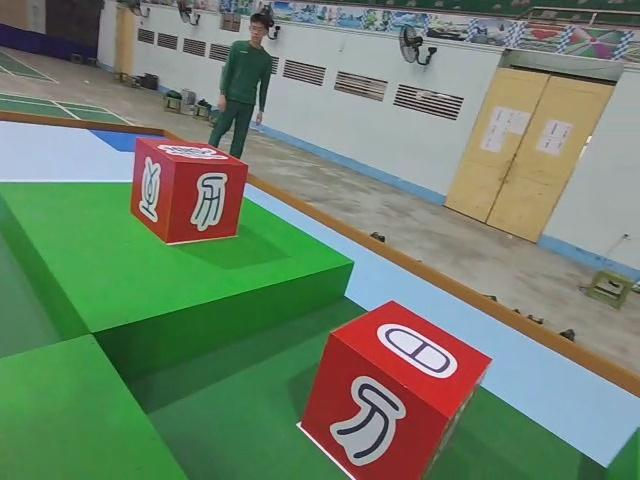R2 Fake: (300, 297, 492, 480), (131, 136, 247, 247)
